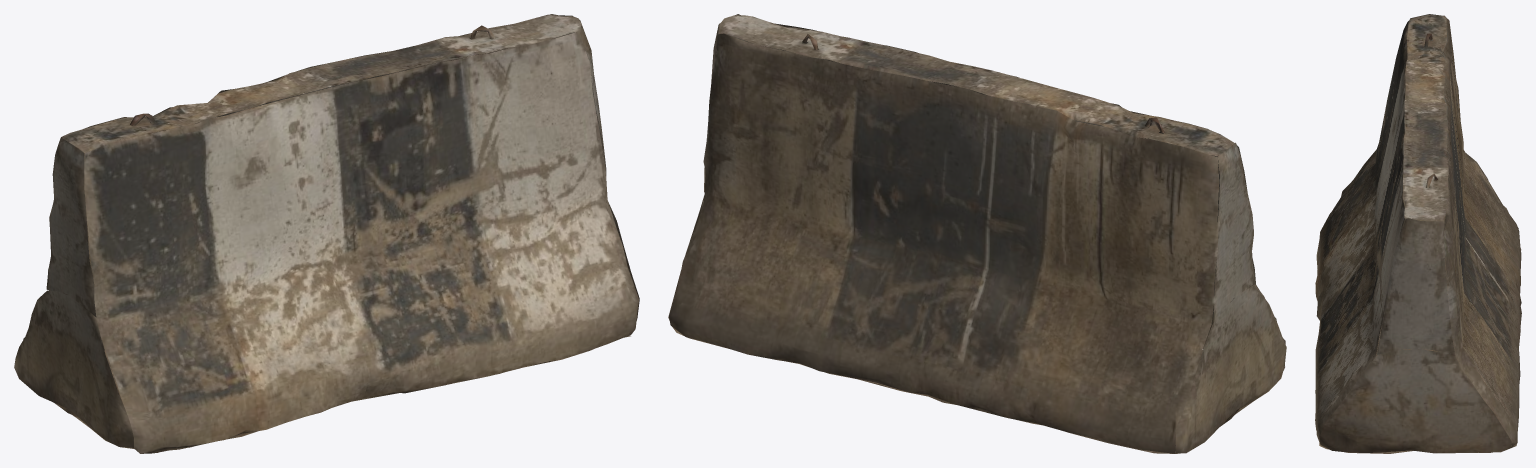
Rendered from concrete_road_barrier.glb.
3 views of the same model, side by side, from view 1: azimuth 30°, elevation 25°; view 2: azimuth 150°, elevation 25°; view 3: azimuth 270°, elevation 25° (orthographic). The views are drawn at different scales.
Parts seen in each view (by area): view 1: concrete_road_barrier; view 2: concrete_road_barrier; view 3: concrete_road_barrier.
Boxes of the visible parts, x1,y1,x2,y2 form: concrete_road_barrier: (14, 14, 639, 453); concrete_road_barrier: (668, 14, 1286, 453); concrete_road_barrier: (1315, 14, 1521, 453).
Size of the model in its own units: 1.54 by 0.8323 by 0.6344.
Materials: 1 (1 with a texture image).
